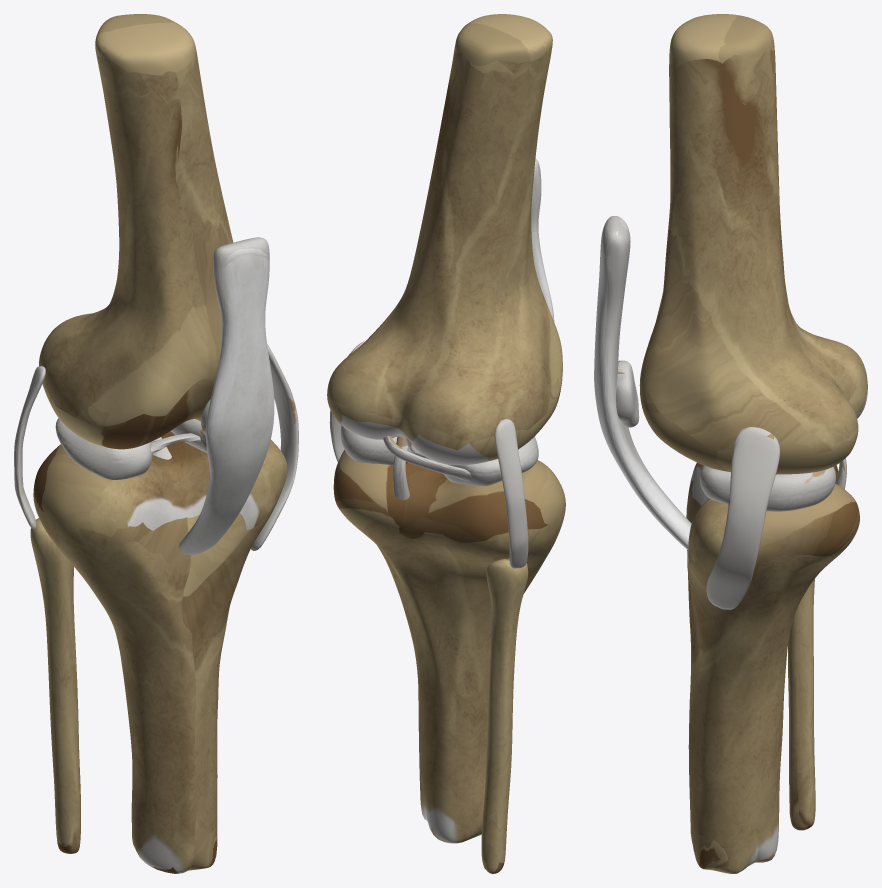
File: knee.glb
3 views of the same model, side by side, from view 1: azimuth 30°, elevation 25°; view 2: azimuth 150°, elevation 25°; view 3: azimuth 270°, elevation 25° (orthographic). The views are drawn at different scales.
Visible parts, largest first — view 1: tibia, femur, aparelho-extensor, fibula, menisco-b, colateral-b, colateral-a, menisco-a; view 2: femur, tibia, fibula, colateral-a, menisco-b, menisco-a, aparelho-extensor, interno-c, interno-b, colateral-b; view 3: femur, tibia, aparelho-extensor, colateral-b, fibula, menisco-a, patela.
Part boxes in pixels (x1,y1,x2,y2): tibia: (33, 431, 287, 873); femur: (39, 14, 233, 449); aparelho-extensor: (178, 237, 274, 554); fibula: (30, 518, 80, 853); menisco-b: (55, 418, 152, 479); colateral-b: (251, 344, 298, 550); colateral-a: (14, 366, 45, 529); menisco-a: (170, 419, 207, 452); femur: (327, 14, 562, 465); tibia: (333, 450, 565, 843); fibula: (481, 558, 528, 873); colateral-a: (494, 419, 528, 568); menisco-b: (444, 436, 538, 486); menisco-a: (340, 425, 416, 465); aparelho-extensor: (531, 158, 554, 321); interno-c: (383, 436, 471, 481); interno-b: (392, 436, 409, 500); colateral-b: (329, 341, 365, 461); femur: (639, 14, 867, 474); tibia: (686, 462, 859, 873); aparelho-extensor: (594, 216, 691, 549); colateral-b: (706, 427, 779, 609); fibula: (788, 579, 815, 830); menisco-a: (700, 465, 835, 511); patela: (616, 360, 639, 427).
Bounding box in the file's own units: 1.18 × 4 × 1.21.
5 materials, 5 textured.
